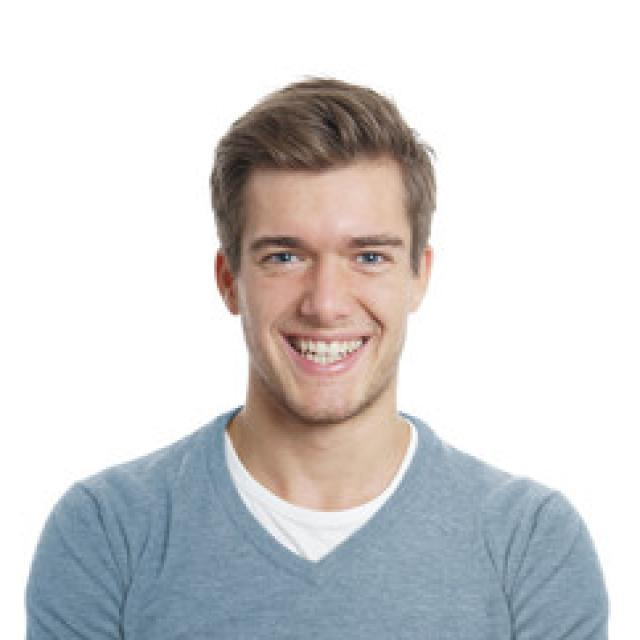Nonhelmet: (197, 64, 453, 419)
